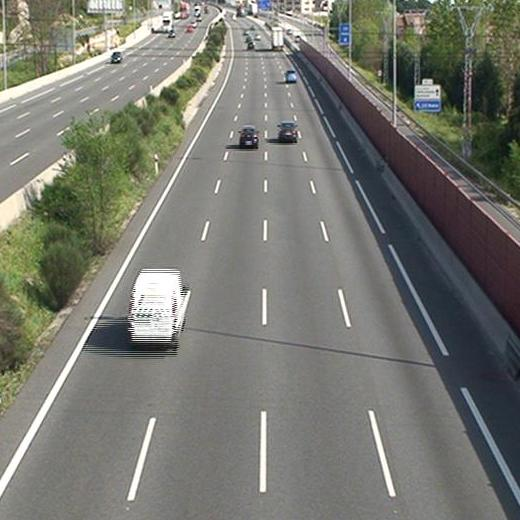car: (238, 126, 258, 148), (278, 121, 297, 141), (284, 69, 296, 82)
van: (129, 269, 190, 346)
